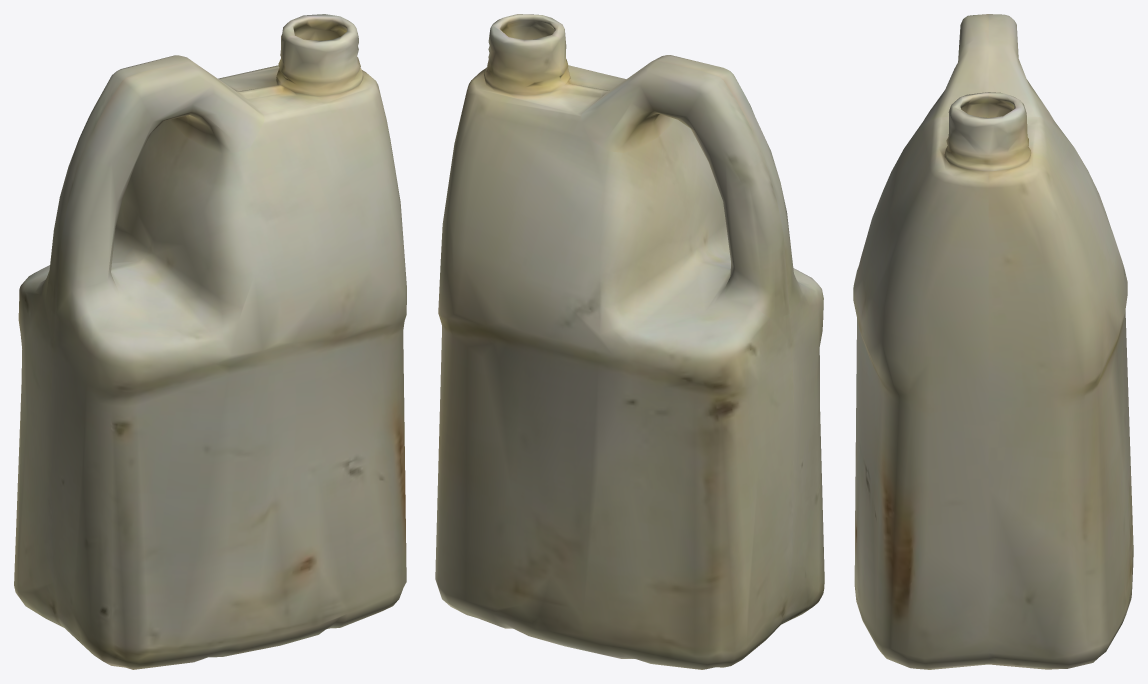
File: water_bottle.glb
3 renders of one model, left to right at view 1: azimuth 30°, elevation 25°; view 2: azimuth 150°, elevation 25°; view 3: azimuth 270°, elevation 25°, orthographic.
Visible parts, largest first — view 1: water_bottle; view 2: water_bottle; view 3: water_bottle.
Boxes of the visible parts, x1=… form: water_bottle: x1=14, y1=14, x2=406, y2=669; water_bottle: x1=435, y1=14, x2=824, y2=669; water_bottle: x1=853, y1=14, x2=1133, y2=669.
Bounding box in the file's own units: 0.1661 × 0.2745 × 0.126.
Materials: 1 (1 with a texture image).
